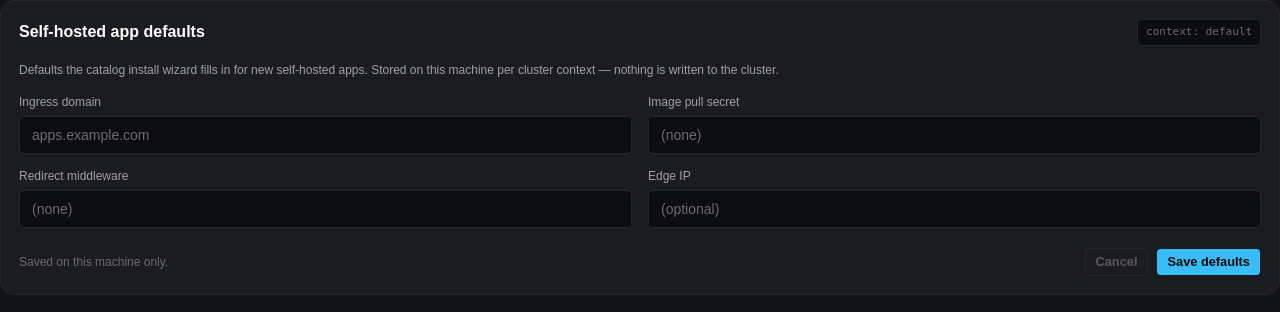
Test: SelfHostSection — Cancel › Cancel reverts edits to the last-saved defaults and is disabled when clean
The image size is (1280, 312).
Expected: the button "Cancel" is disabled, [1084, 248, 1148, 276]
Type "apps.mine.com" into the field with placeholder "apps.example.com" at (326, 135), box [19, 116, 632, 154]
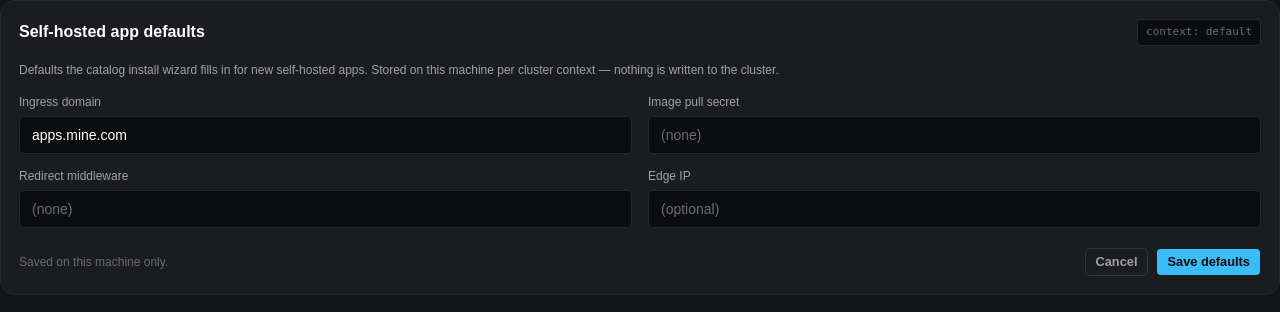
Expected: the button "Cancel" is enabled
Click the button "Cancel" at (1116, 262), box [1084, 248, 1148, 276]
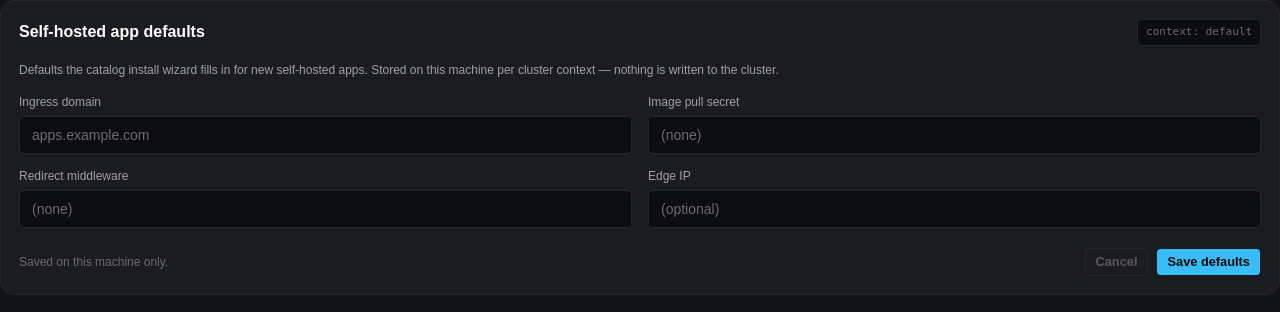
Expected: the field with placeholder "apps.example.com" is empty, [19, 116, 632, 154]
Expected: the button "Cancel" is disabled, [1084, 248, 1148, 276]
